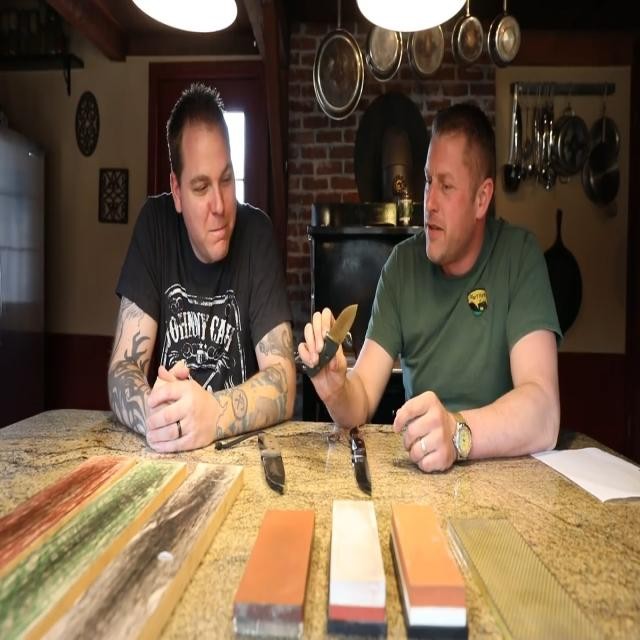knife: (308, 304, 362, 385), (345, 416, 379, 502), (257, 430, 294, 504)
